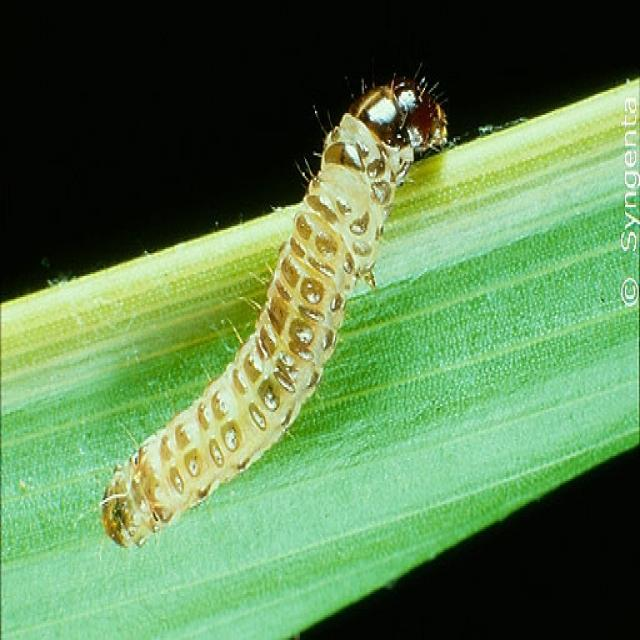cornborer-Larva-: (91, 61, 458, 570)
